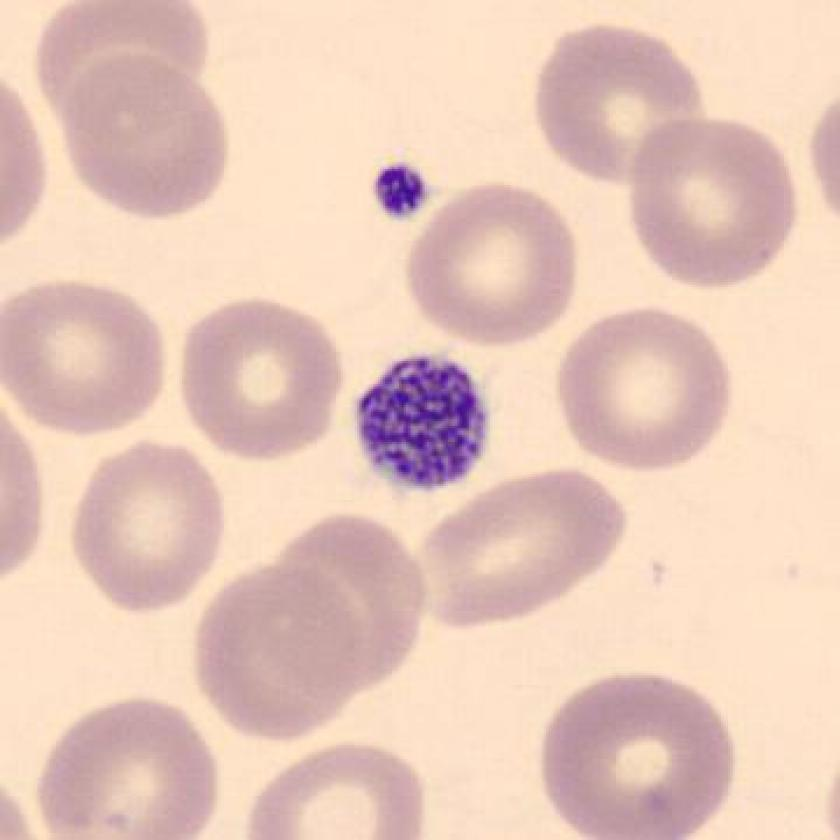platelets: (344, 346, 503, 508), (365, 152, 437, 233)
